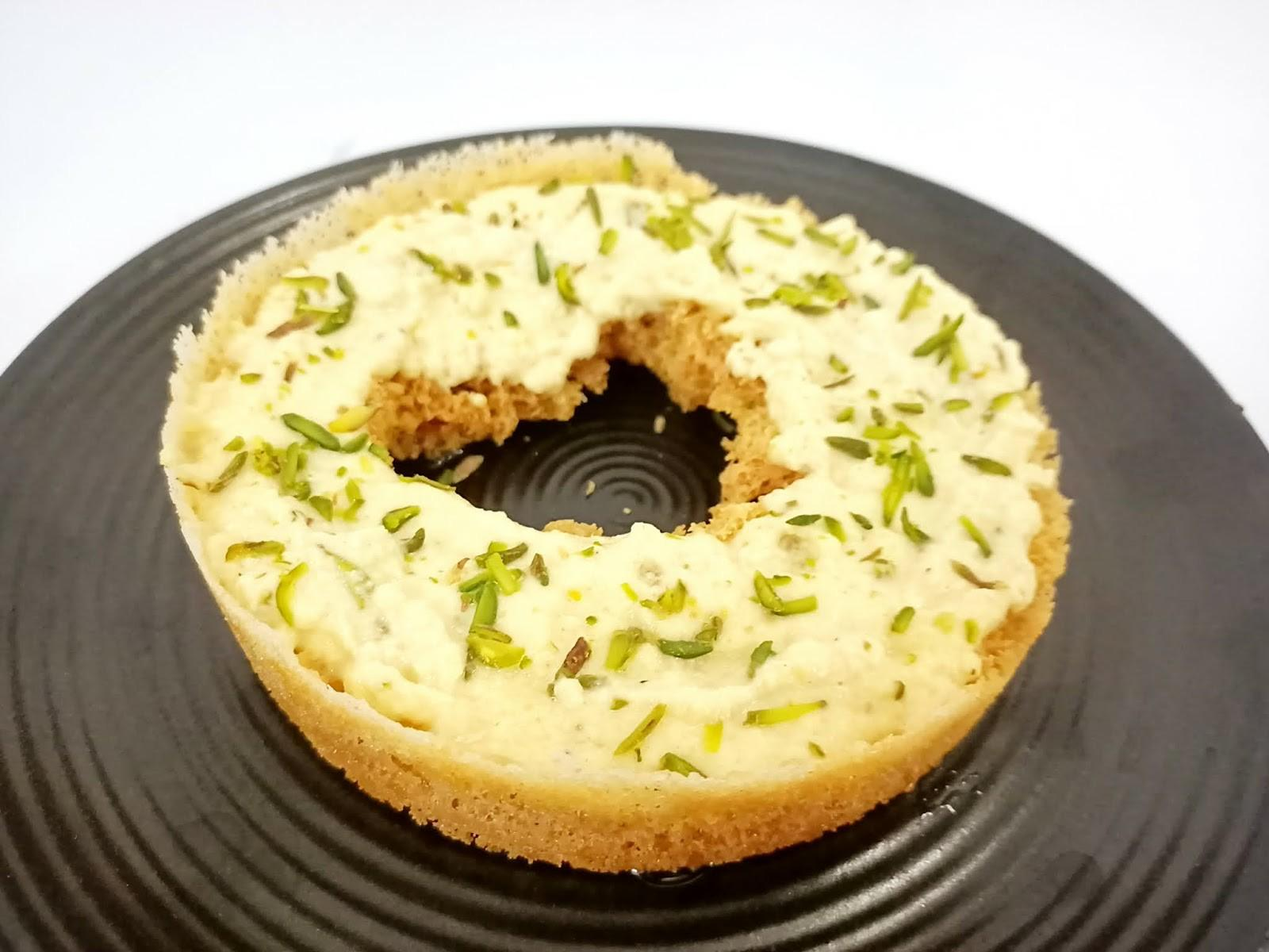Ghevar: (153, 132, 1072, 878)
